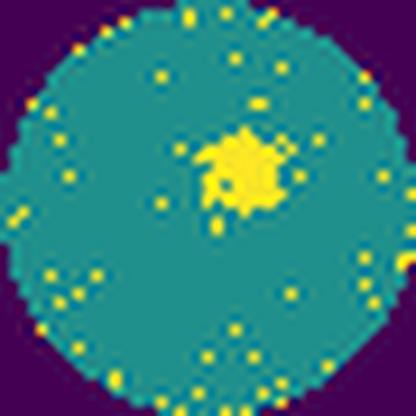Loc: (195, 124, 292, 217)
